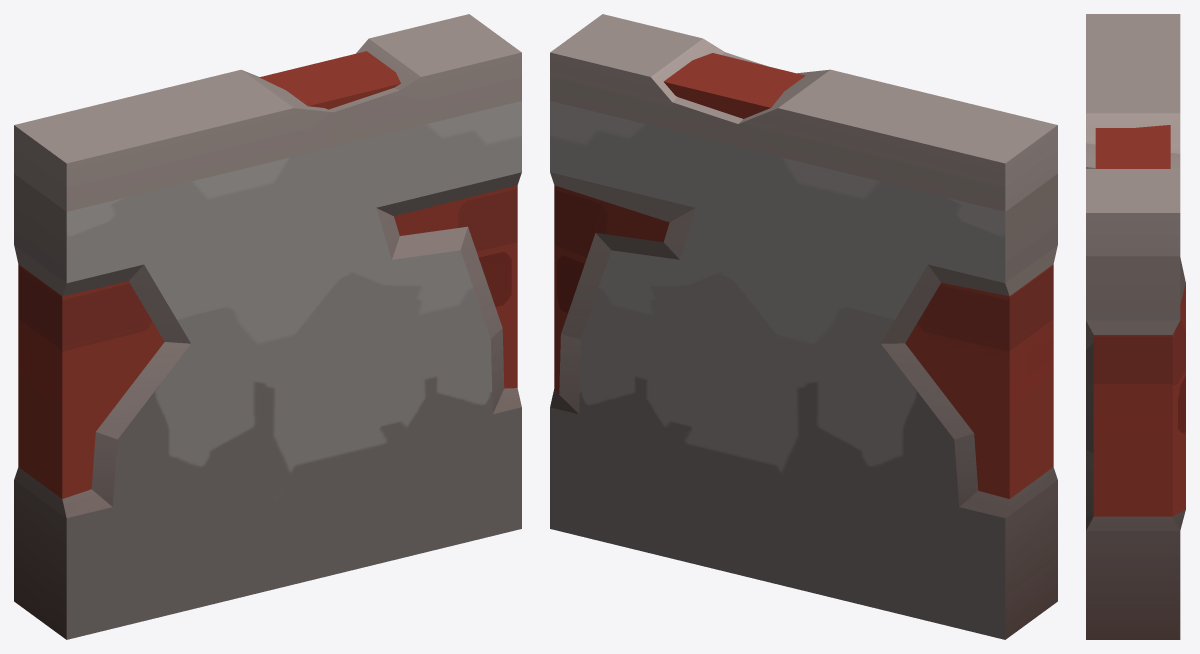
Rendered from SM_DamagedWall_01.fbx.
3 renders of one model, left to right at view 1: azimuth 30°, elevation 25°; view 2: azimuth 150°, elevation 25°; view 3: azimuth 270°, elevation 25°, orthographic. The views are drawn at different scales.
Parts seen in each view (by area): view 1: SM_DamagedWall_01; view 2: SM_DamagedWall_01; view 3: SM_DamagedWall_01.
Part boxes in pixels (x1,y1,x2,y2): SM_DamagedWall_01: [14, 14, 521, 639]; SM_DamagedWall_01: [550, 14, 1057, 639]; SM_DamagedWall_01: [1086, 14, 1185, 639].
Size of the model in its own units: 1 by 1 by 0.212.
